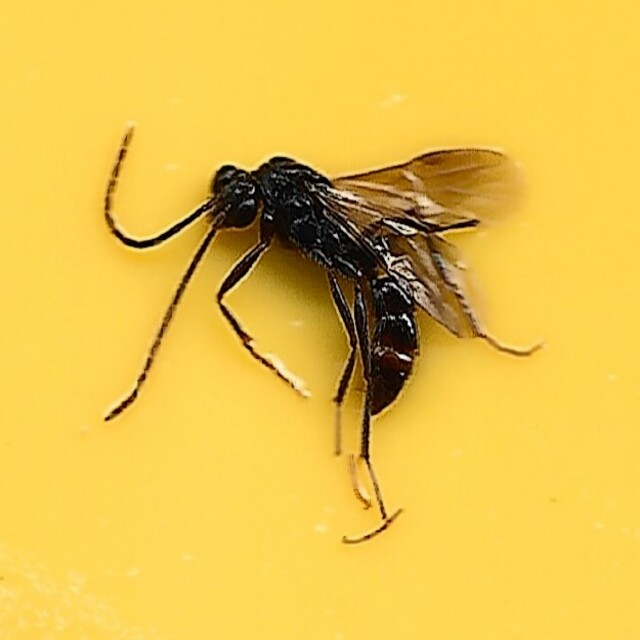Hymenoptera: (102, 124, 538, 516)
